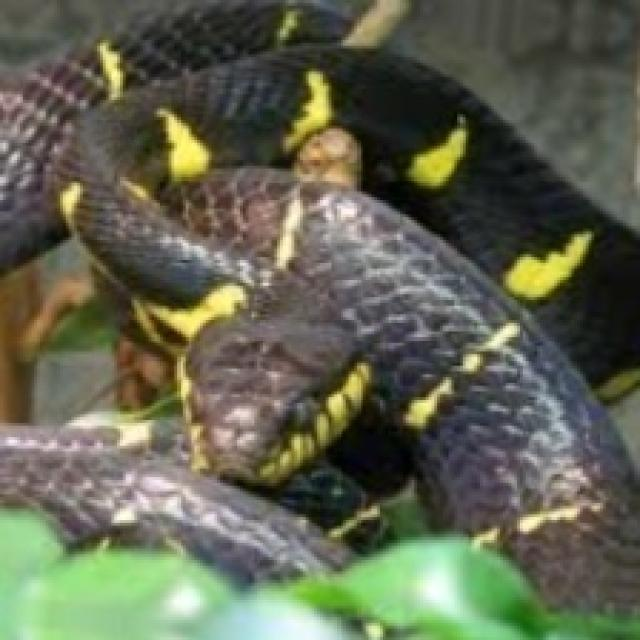mangrove cat snake: (0, 0, 637, 609)
